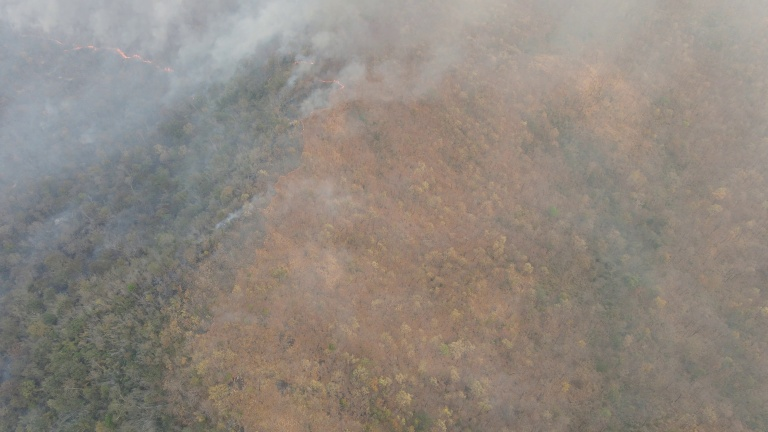fire: (26, 32, 176, 77), (289, 64, 341, 131)
smoke: (1, 1, 768, 95), (4, 98, 189, 250), (222, 173, 342, 231)
